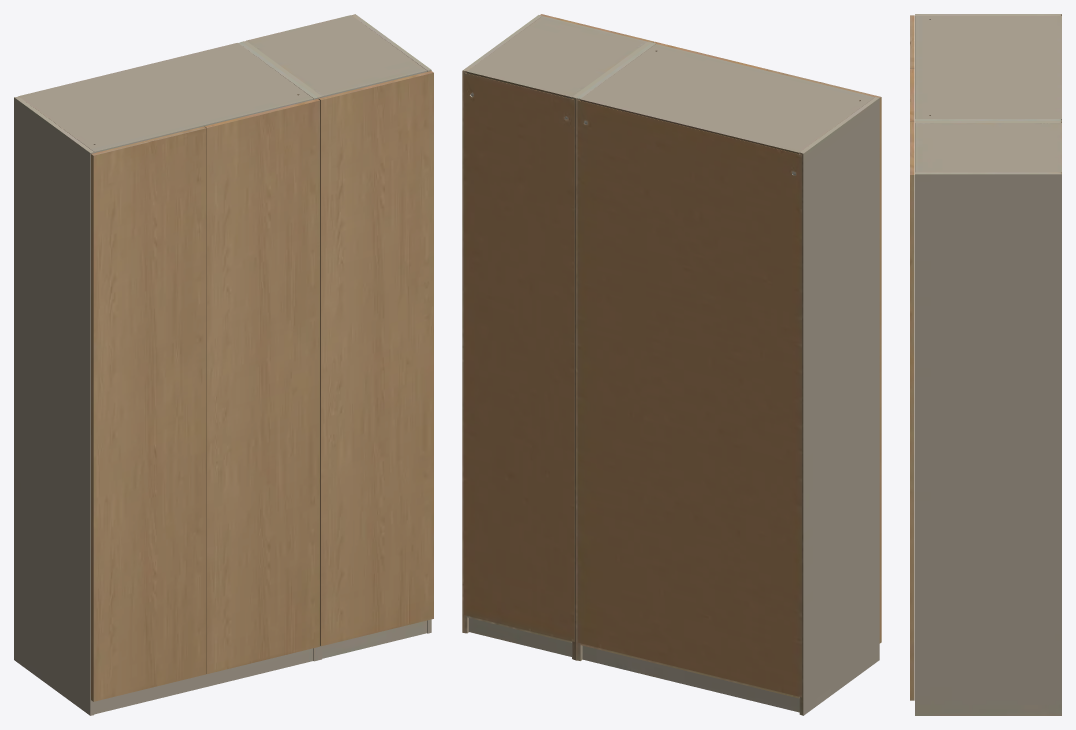
The picture shows the model from 3 angles, left to right: view 1: azimuth 30°, elevation 25°; view 2: azimuth 150°, elevation 25°; view 3: azimuth 270°, elevation 25°; orthographic projection. The views are drawn at different scales.
Visible parts, largest first — view 1: Mesh_0; view 2: Mesh_0; view 3: Mesh_0.
Part boxes in pixels (x1=…): Mesh_0: x1=14, y1=14, x2=433, y2=715; Mesh_0: x1=462, y1=14, x2=881, y2=715; Mesh_0: x1=910, y1=14, x2=1061, y2=715.
Size of the model in its own units: 1.5 by 2.36 by 0.6.
Materials: 2 (2 with a texture image).
